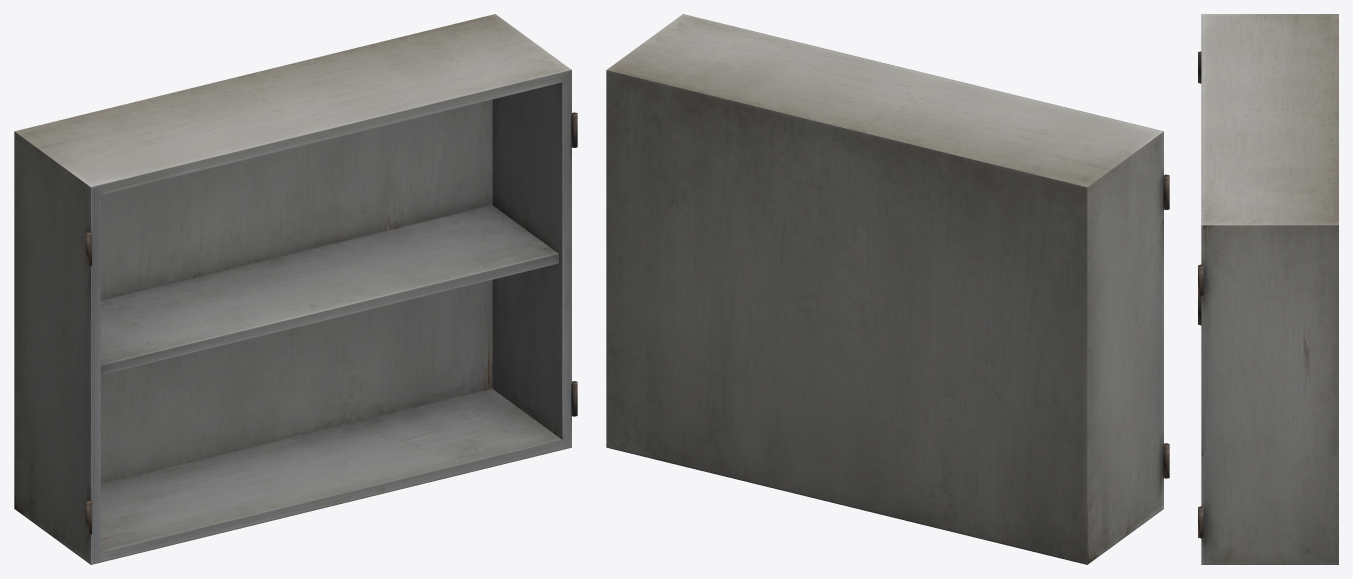
The model's file is cupboard_wood.dae.
3 renders of one model, left to right at view 1: azimuth 30°, elevation 25°; view 2: azimuth 150°, elevation 25°; view 3: azimuth 270°, elevation 25°, orthographic. The views are drawn at different scales.
Parts seen in each view (by area): view 1: cupboard_wood; view 2: cupboard_wood; view 3: cupboard_wood.
Boxes of the visible parts, x1,y1,x2,y2 form: cupboard_wood: (14,14,577,564); cupboard_wood: (606,14,1169,564); cupboard_wood: (1198,14,1338,564).
Bounding box in the file's own units: 116 × 85 × 31.96.
